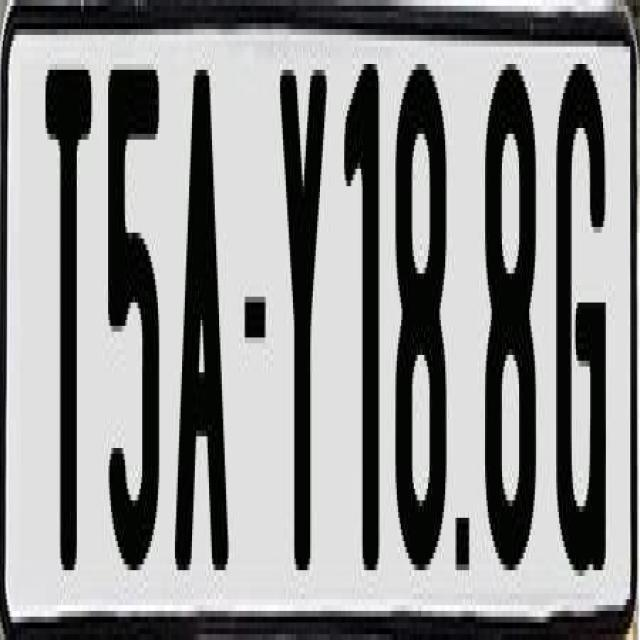1: (340, 58, 380, 599)
5: (108, 58, 165, 576)
8: (391, 58, 445, 599), (485, 58, 539, 570)
A: (171, 52, 226, 582)
G: (554, 52, 608, 588)
T: (41, 70, 94, 588)
Y: (276, 64, 324, 582)
